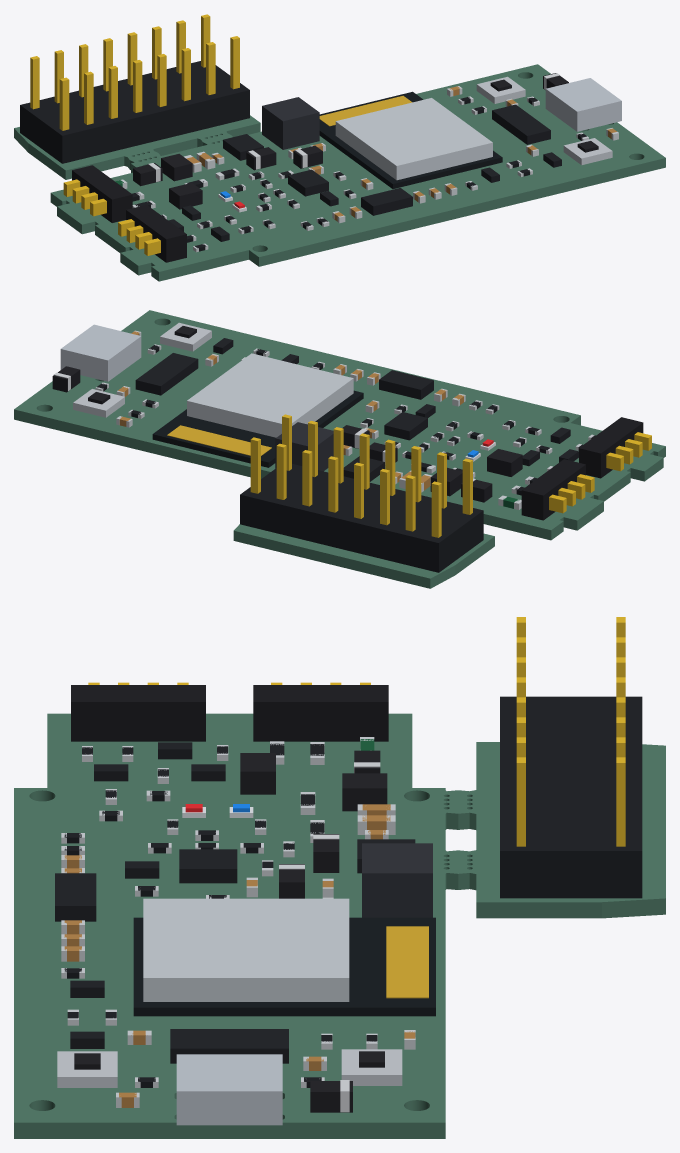
The model's file is TBX_OBD2_ESP32_PRO_3D_POPULADA.glb.
3 views of the same model, one above another, from view 1: azimuth 30°, elevation 25°; view 2: azimuth 150°, elevation 25°; view 3: azimuth 270°, elevation 25° (orthographic). The views are drawn at different scales.
Visible parts, largest first — view 1: =>[0:1:1:349], M_J1 (Shell) (×17), M_U1 (Shell) (×3), M_J2 (Shell), M_L1 (Shell), M_J3 (Shell), M_J4 (Shell), M_U5 (Shell), M_U4 (Shell), M_U2 (Shell), M_SW2 (Shell), M_SW1 (Shell) (+6 smaller); view 2: =>[0:1:1:349], M_J1 (Shell) (×17), M_U1 (Shell) (×3), M_J2 (Shell), M_J4 (Shell), M_J3 (Shell), M_U5 (Shell), M_L1 (Shell), M_U4 (Shell), M_U2 (Shell), M_SW2 (Shell), M_SW1 (Shell) (+5 smaller); view 3: =>[0:1:1:349], M_U1 (Shell) (×3), M_J1 (Shell) (×3), M_J2 (Shell), M_J3 (Shell), M_J4 (Shell), M_L1 (Shell), M_U5 (Shell), M_U2 (Shell), M_U4 (Shell), M_SW2 (Shell), M_SW1 (Shell) (+5 smaller).
Part boxes in pixels (left/top/right/bottom): =>[0:1:1:349]: left=14, top=64, right=665, bottom=281; M_J1 (Shell) (×17): left=20, top=14, right=249, bottom=163; M_U1 (Shell) (×3): left=319, top=91, right=502, bottom=188; M_J2 (Shell): left=545, top=78, right=621, bottom=131; M_L1 (Shell): left=262, top=97, right=319, bottom=149; M_J3 (Shell): left=126, top=205, right=186, bottom=262; M_J4 (Shell): left=72, top=165, right=132, bottom=222; M_U5 (Shell): left=492, top=104, right=550, bottom=144; M_U4 (Shell): left=361, top=188, right=412, bottom=215; M_U2 (Shell): left=288, top=169, right=328, bottom=196; M_SW2 (Shell): left=563, top=138, right=612, bottom=165; M_SW1 (Shell): left=476, top=76, right=525, bottom=103; =>[0:1:1:349]: left=14, top=310, right=665, bottom=588; M_J1 (Shell) (×17): left=240, top=414, right=483, bottom=572; M_U1 (Shell) (×3): left=152, top=353, right=363, bottom=467; M_J2 (Shell): left=60, top=324, right=141, bottom=381; M_J4 (Shell): left=521, top=459, right=585, bottom=520; M_J3 (Shell): left=579, top=417, right=643, bottom=478; M_U5 (Shell): left=135, top=353, right=198, bottom=395; M_L1 (Shell): left=275, top=422, right=333, bottom=471; M_U4 (Shell): left=379, top=370, right=433, bottom=399; M_U2 (Shell): left=384, top=412, right=427, bottom=440; M_SW2 (Shell): left=160, top=322, right=211, bottom=351; M_SW1 (Shell): left=73, top=389, right=124, bottom=417; =>[0:1:1:349]: left=14, top=713, right=665, bottom=1138; M_U1 (Shell) (×3): left=133, top=898, right=435, bottom=1016; M_J1 (Shell) (×3): left=500, top=696, right=642, bottom=898; M_J2 (Shell): left=176, top=1054, right=282, bottom=1125; M_J3 (Shell): left=71, top=685, right=205, bottom=741; M_J4 (Shell): left=253, top=685, right=388, bottom=741; M_L1 (Shell): left=362, top=843, right=432, bottom=917; M_U5 (Shell): left=170, top=1029, right=288, bottom=1063; M_U2 (Shell): left=179, top=849, right=237, bottom=883; M_U4 (Shell): left=55, top=873, right=96, bottom=921; M_SW2 (Shell): left=57, top=1051, right=117, bottom=1087; M_SW1 (Shell): left=341, top=1049, right=402, bottom=1085.
Bounding box in the file's own units: 0.0838 × 0.0138 × 0.055.
